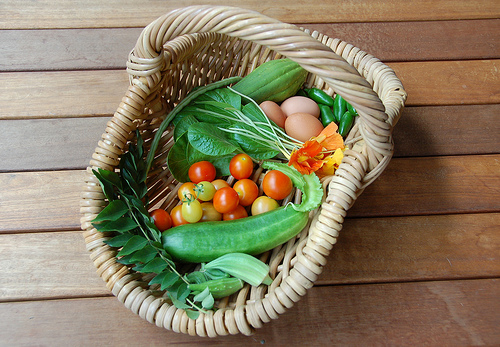cucumber: (159, 195, 311, 265)
